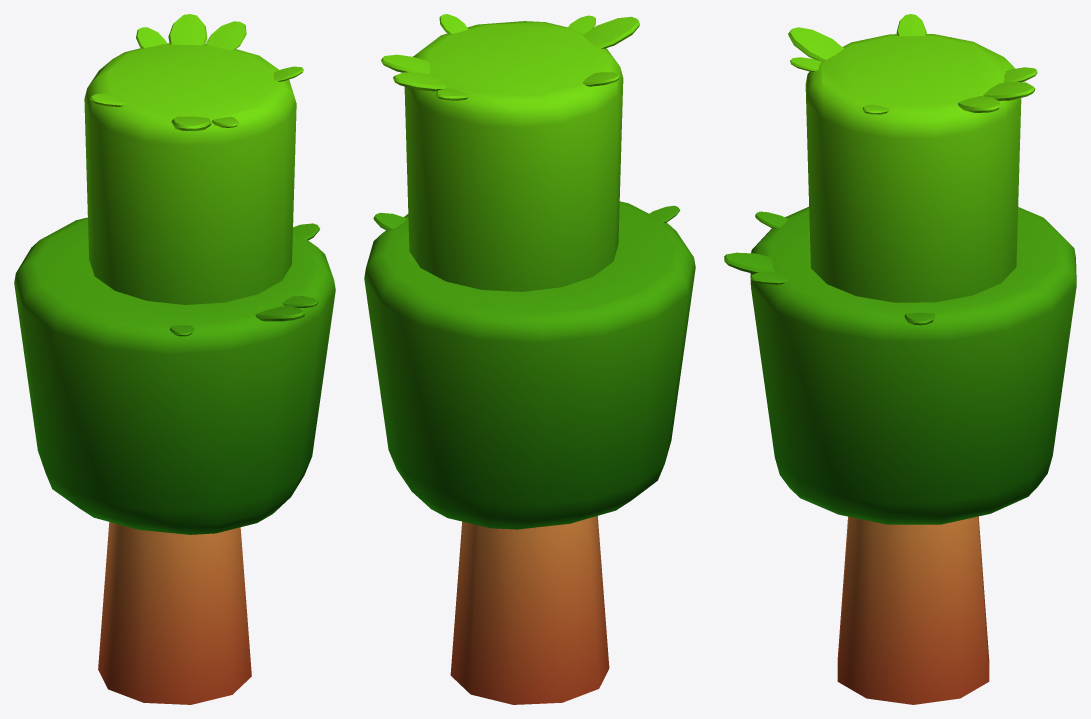
The model's file is Tree-M1-03.fbx.
3 views of the same model, side by side, from view 1: azimuth 30°, elevation 25°; view 2: azimuth 150°, elevation 25°; view 3: azimuth 270°, elevation 25° (orthographic). The views are drawn at different scales.
Parts seen in each view (by area): view 1: Tree_M1_03; view 2: Tree_M1_03; view 3: Tree_M1_03.
Part boxes in pixels (bbox=[...]): Tree_M1_03: bbox=[14, 14, 335, 704]; Tree_M1_03: bbox=[364, 14, 695, 704]; Tree_M1_03: bbox=[724, 14, 1076, 704].
Size of the model in its own units: 99.26 by 201 by 103.
